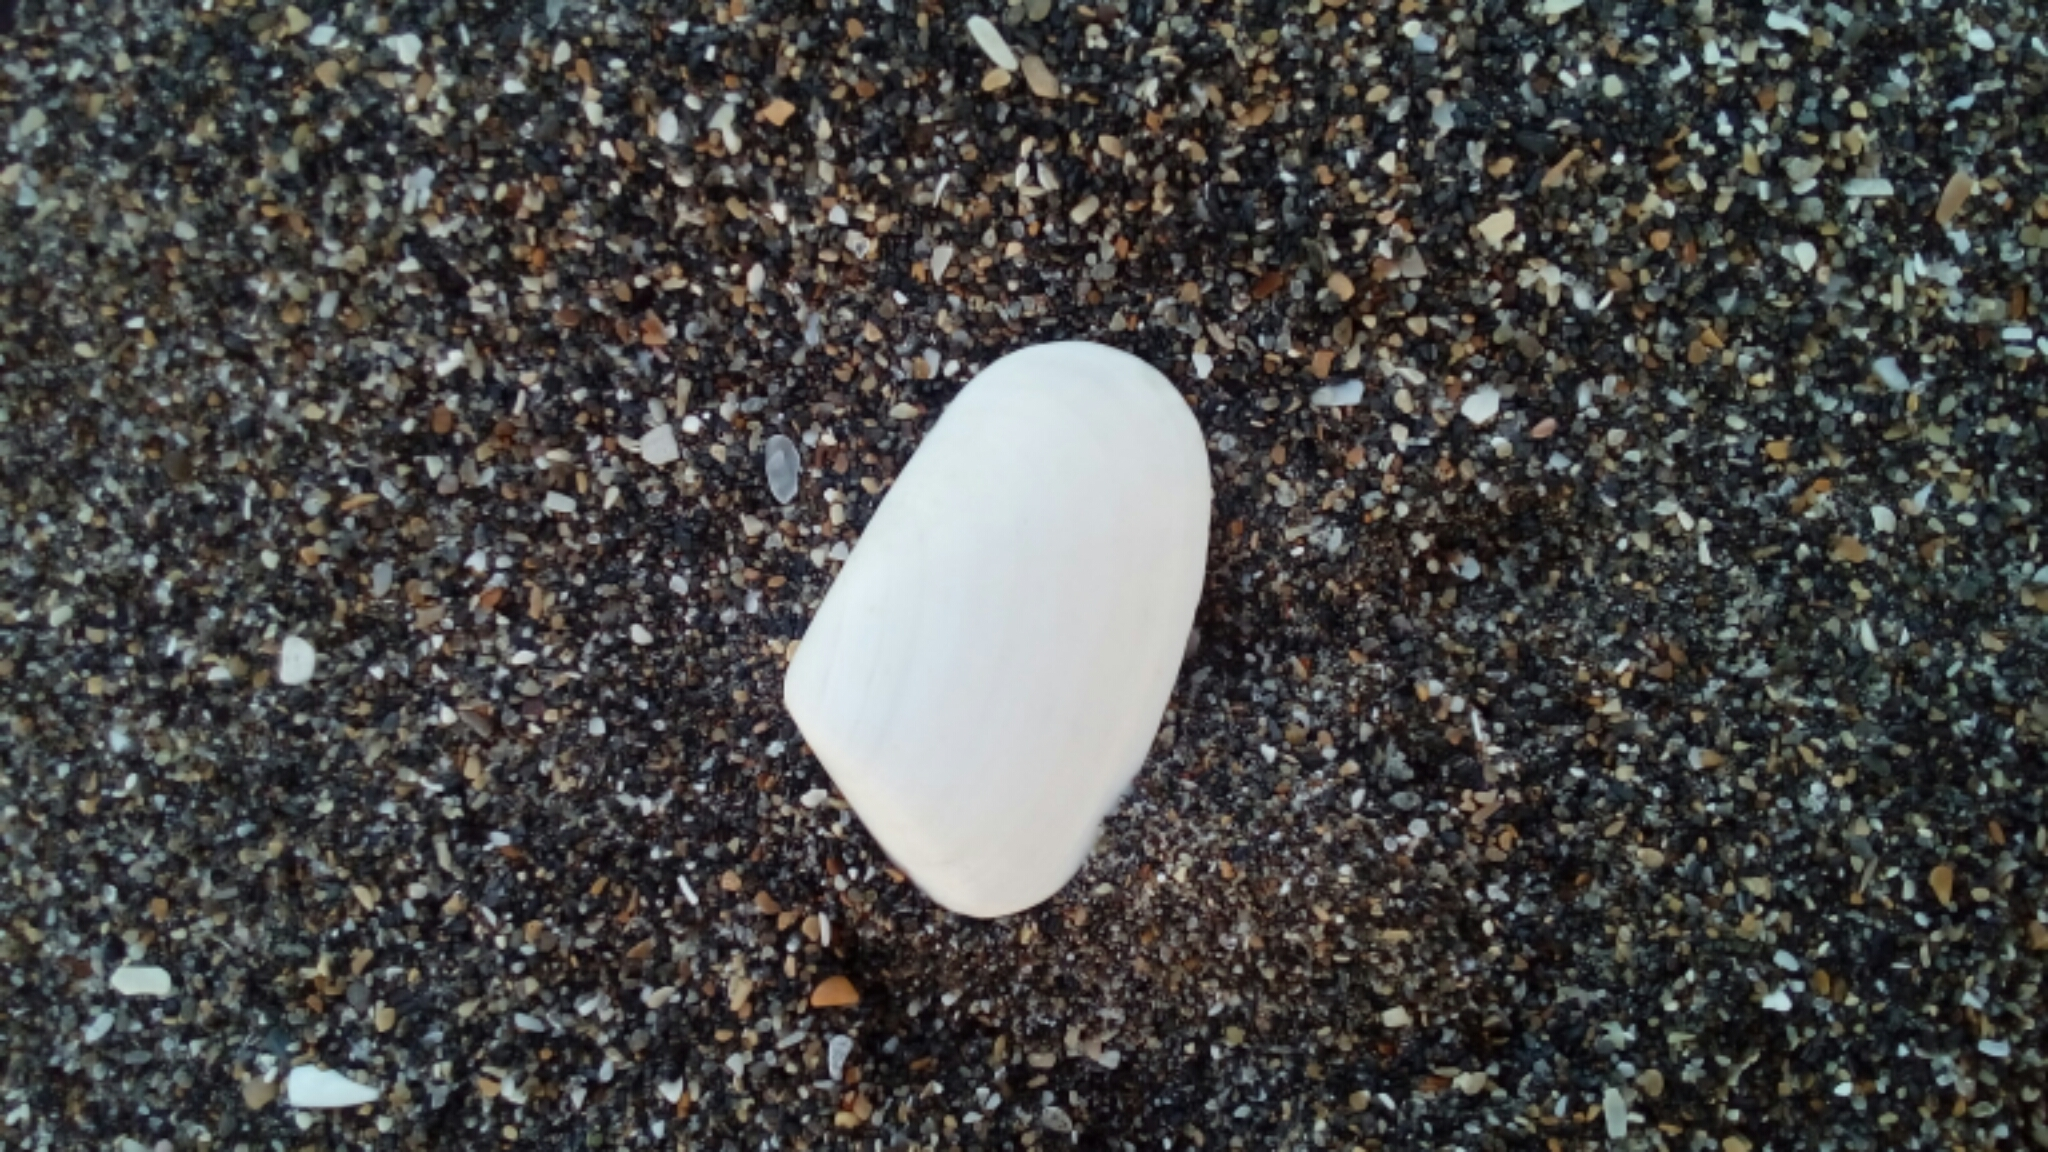tuatua: (782, 314, 1211, 931)
